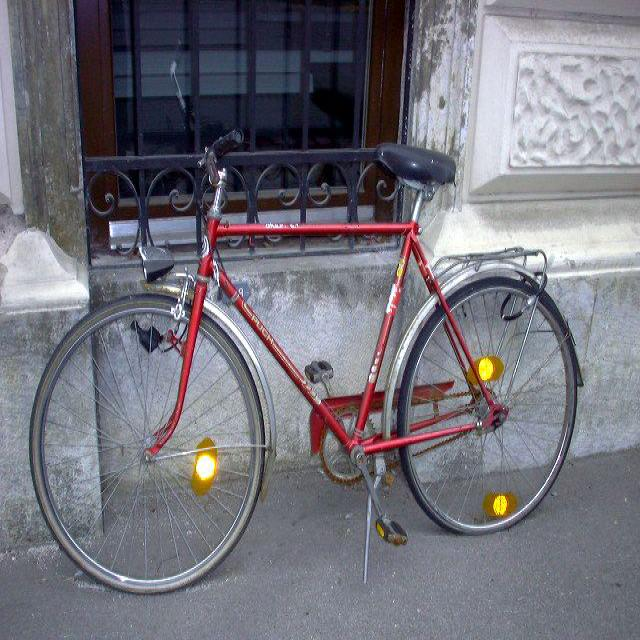bicycle: (28, 126, 583, 594)
